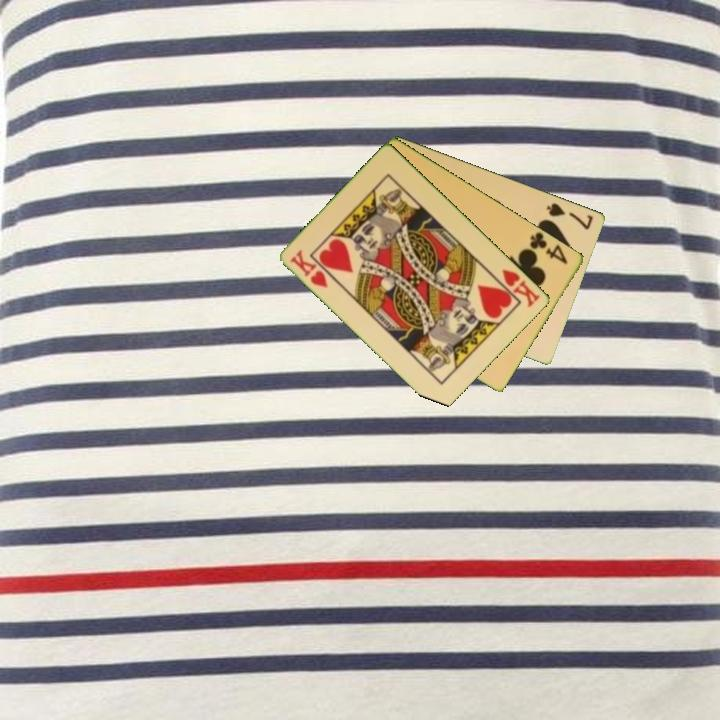4c: (524, 228, 571, 267)
7s: (543, 199, 596, 232)
Kh: (490, 265, 544, 310), (287, 246, 331, 291)
